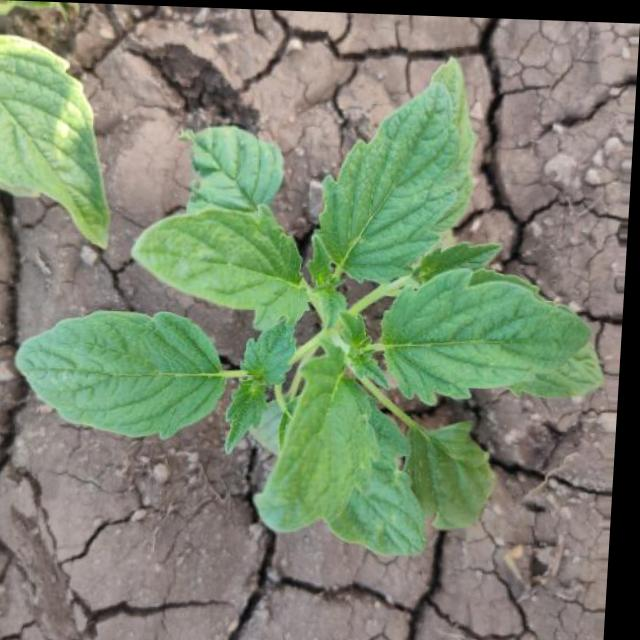crop: (15, 23, 627, 565)
